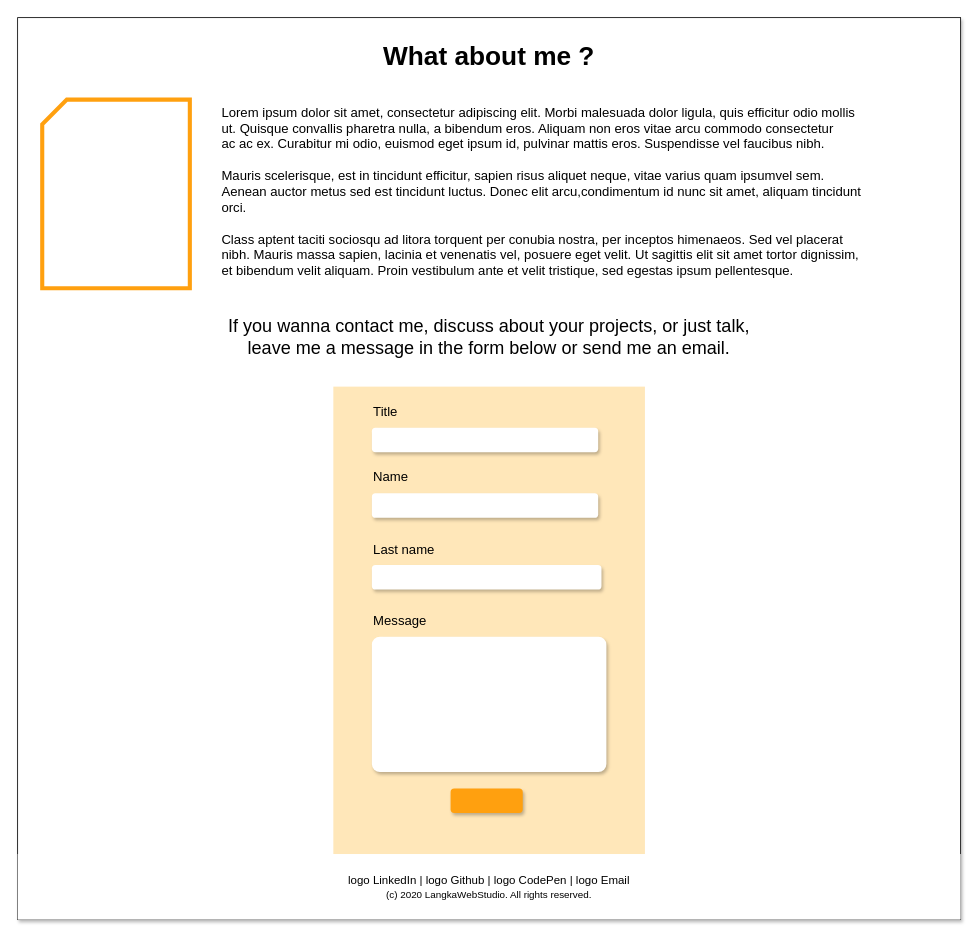
The diagram is 980 pixels wide and 940 high, and some of its shapes have lost their labels. The centre of each missing label's shape, as x and y in pixels:
"photo" goes at point (115, 193).
"Send" goes at point (487, 801).
